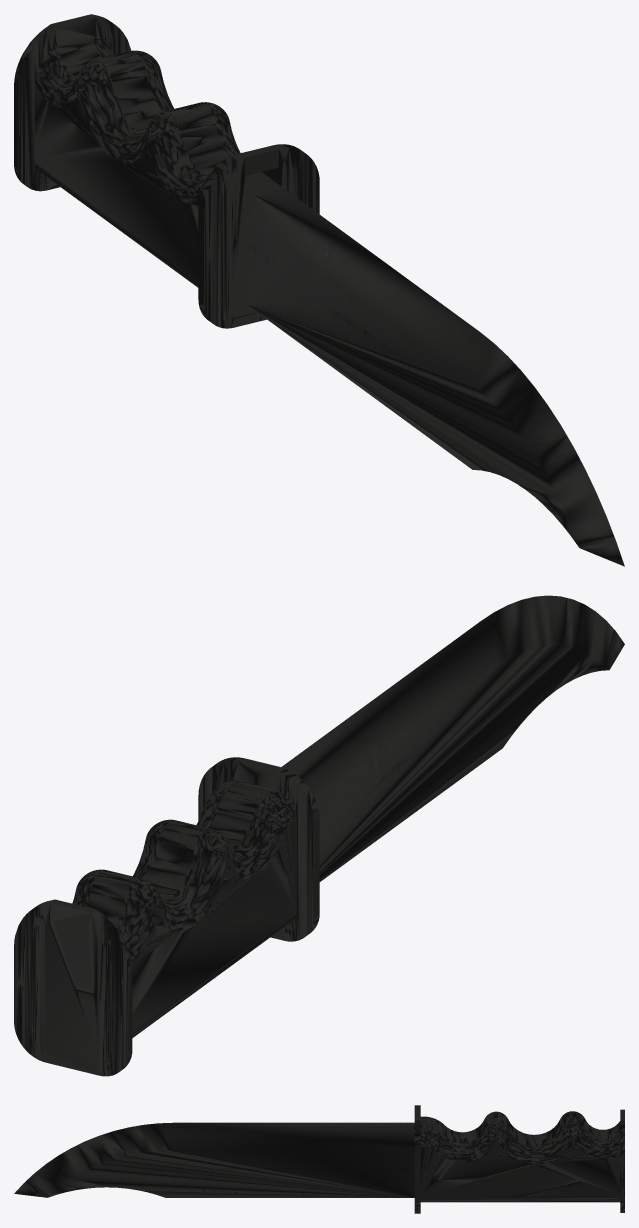
The model's file is model_align.obj.
The picture shows the model from 3 angles, top to bottom: view 1: azimuth 30°, elevation 25°; view 2: azimuth 150°, elevation 25°; view 3: azimuth 270°, elevation 25°; orthographic projection. The views are drawn at different scales.
Size of the model in its own units: 0.0239 by 0.0331 by 0.1983.
